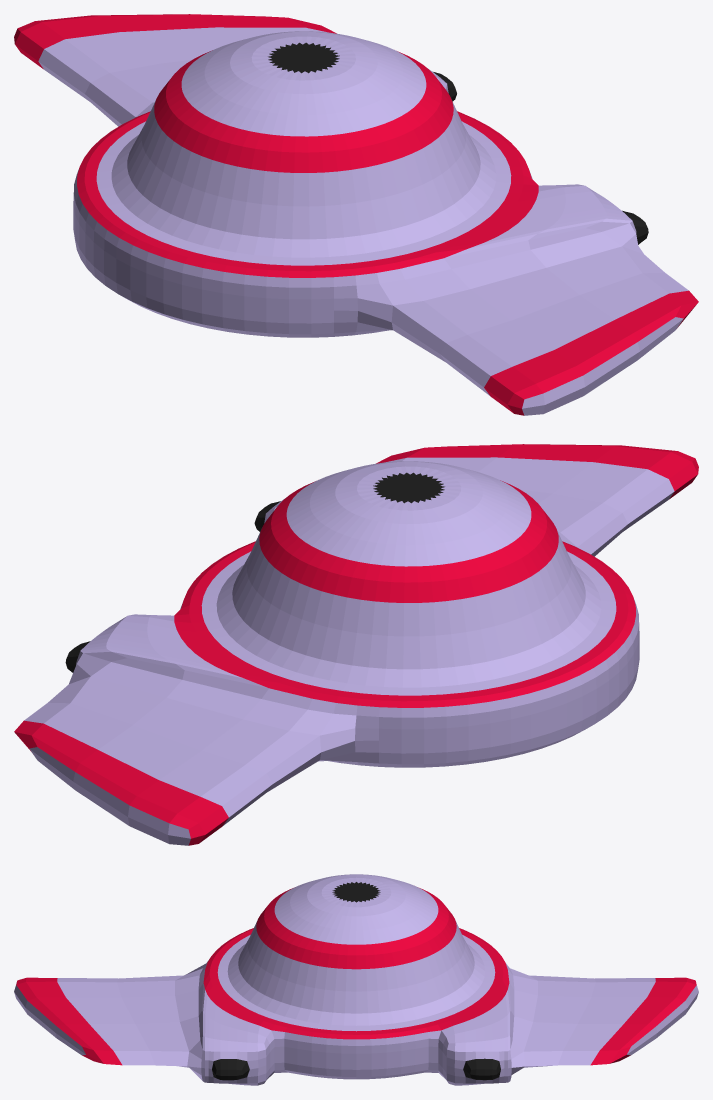
The model's file is starship boss body.fbx.
The picture shows the model from 3 angles, top to bottom: view 1: azimuth 30°, elevation 25°; view 2: azimuth 150°, elevation 25°; view 3: azimuth 270°, elevation 25°; orthographic projection. The views are drawn at different scales.
Visible parts, largest first — view 1: Circle; view 2: Circle; view 3: Circle.
Part boxes in pixels (x1,y1,x2,y2): Circle: (14, 14, 698, 415); Circle: (14, 444, 698, 845); Circle: (14, 874, 698, 1085).
Bounding box in the file's own units: 220 × 91.32 × 441.
